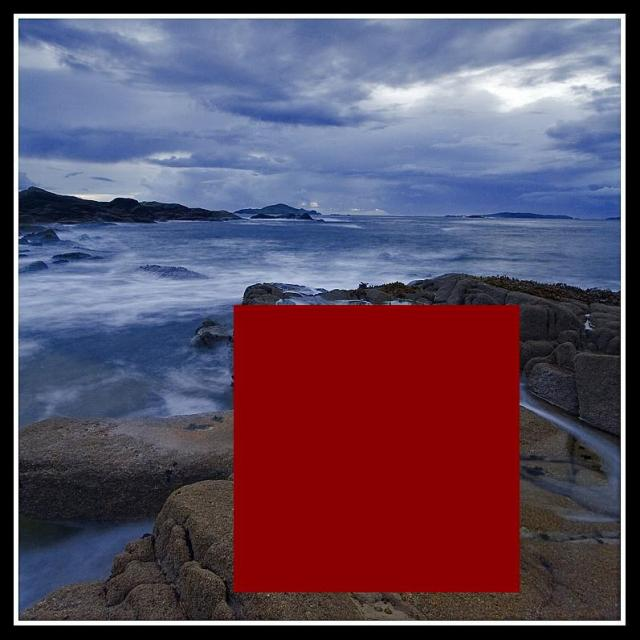RedSquare: (223, 295, 538, 602)
